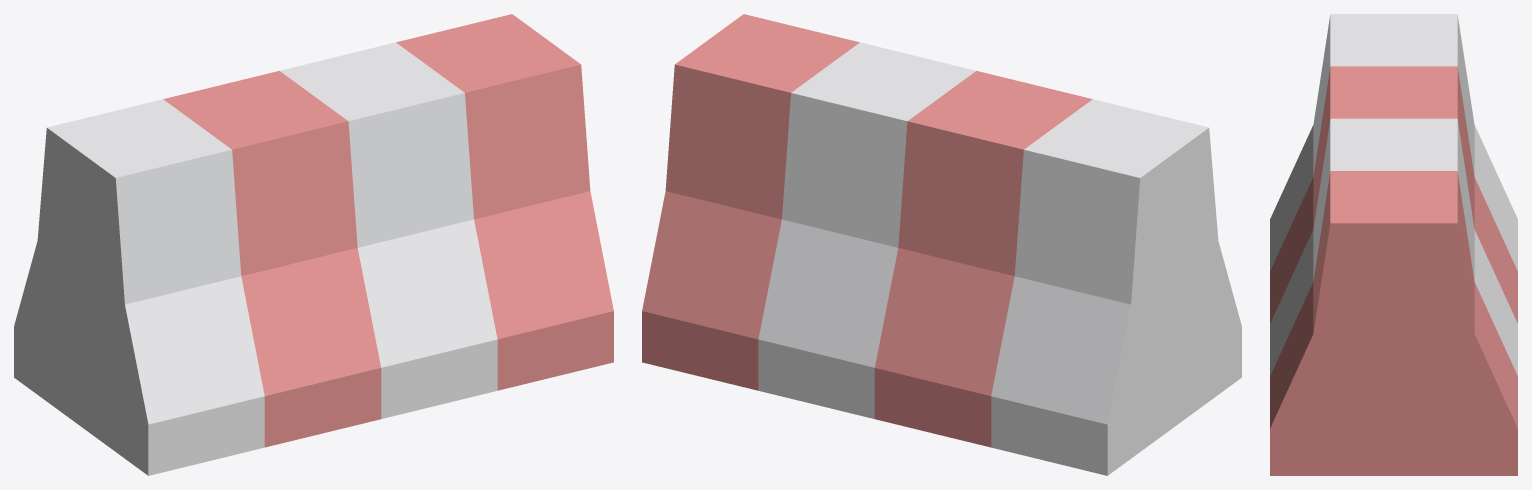
The model's file is obstacle_low.glb.
3 views of the same model, side by side, from view 1: azimuth 30°, elevation 25°; view 2: azimuth 150°, elevation 25°; view 3: azimuth 270°, elevation 25° (orthographic). The views are drawn at different scales.
Parts seen in each view (by area): view 1: barrierWall(Clone); view 2: barrierWall(Clone); view 3: barrierWall(Clone).
Boxes of the visible parts, x1=… form: barrierWall(Clone): x1=14, y1=14, x2=613, y2=475; barrierWall(Clone): x1=642, y1=14, x2=1241, y2=475; barrierWall(Clone): x1=1270, y1=14, x2=1517, y2=475.
Size of the model in its own units: 1.6 by 0.8999 by 0.8001.
